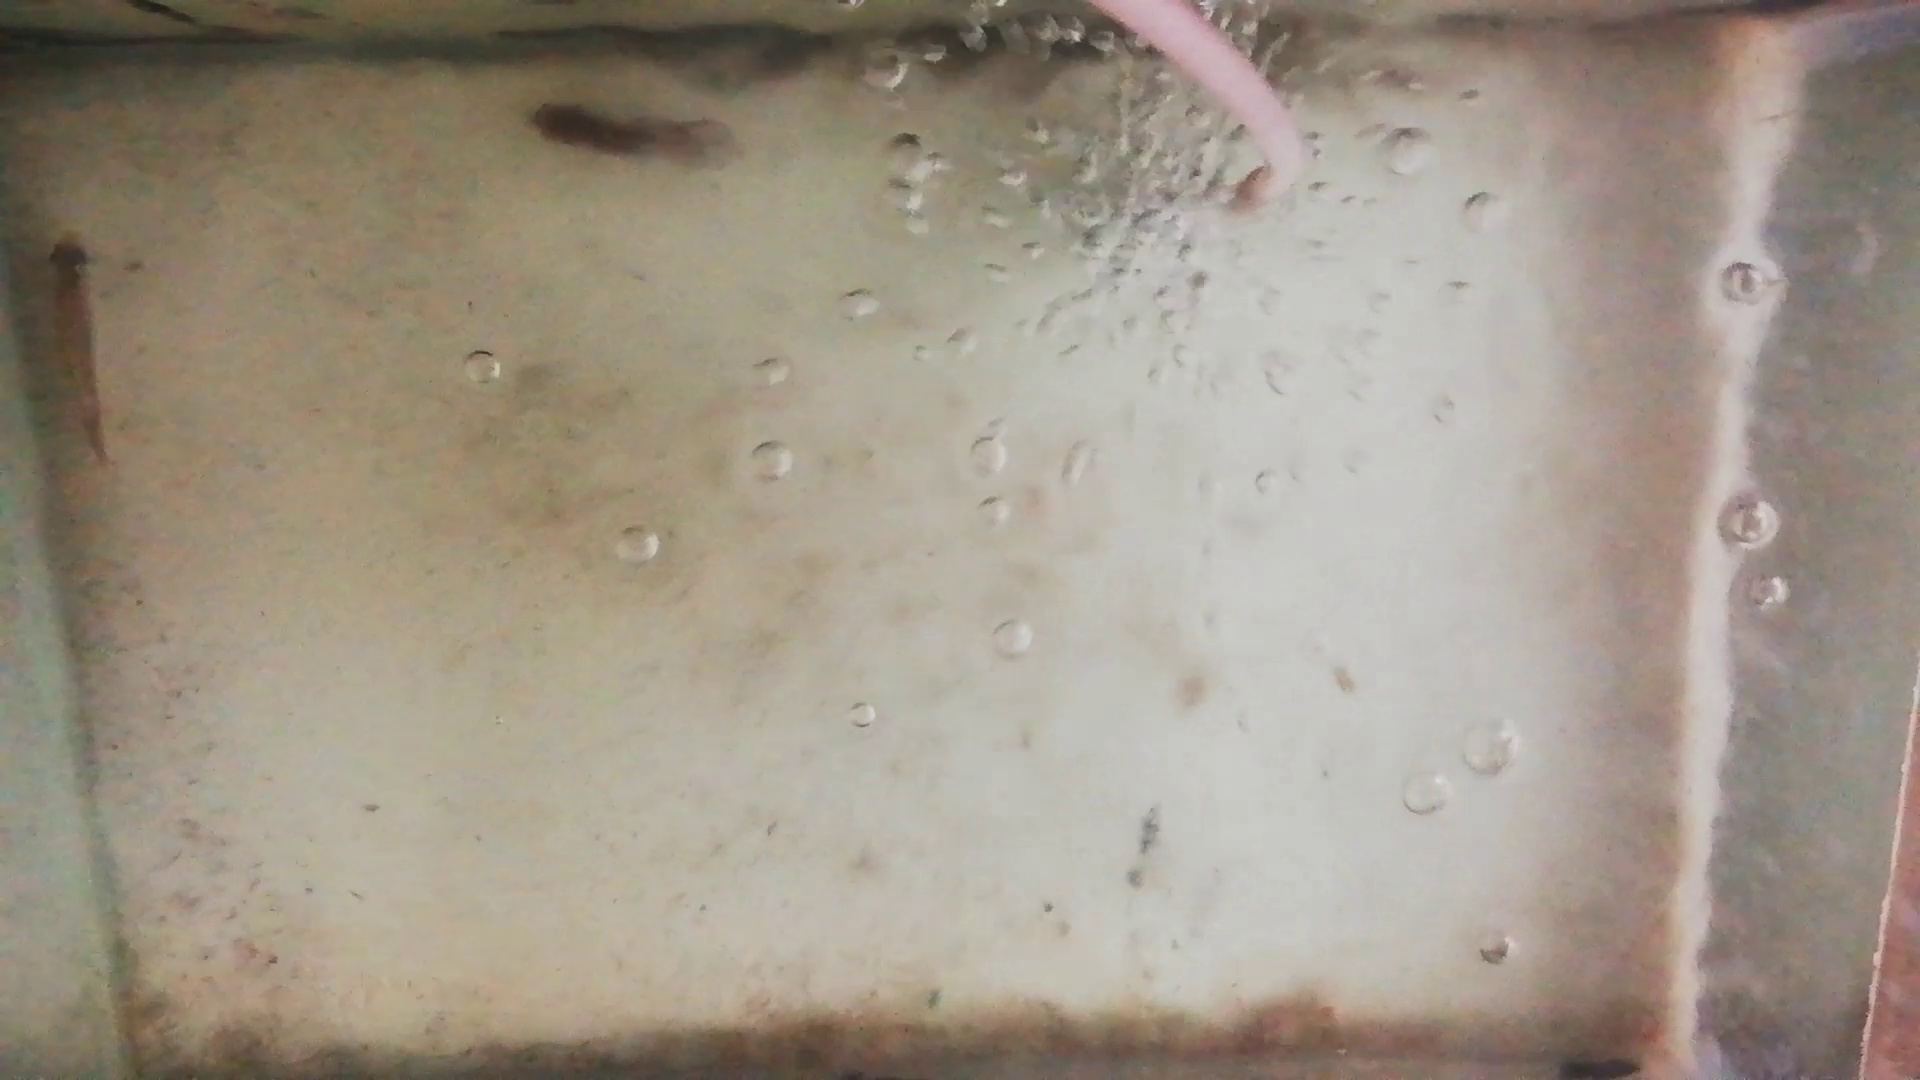fish: (45, 229, 109, 465), (530, 95, 717, 165)
